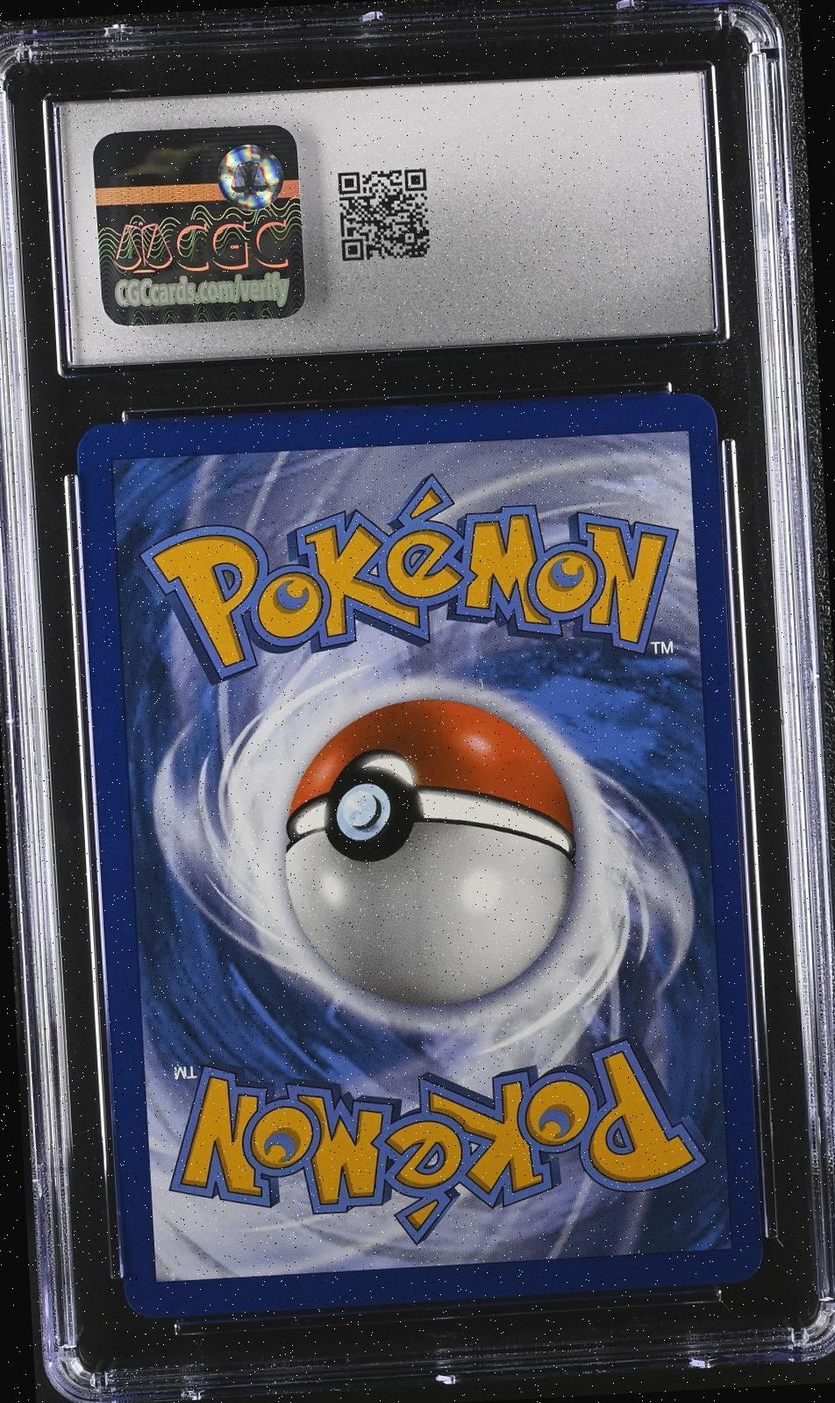card-2UtV: (76, 391, 765, 1319)
